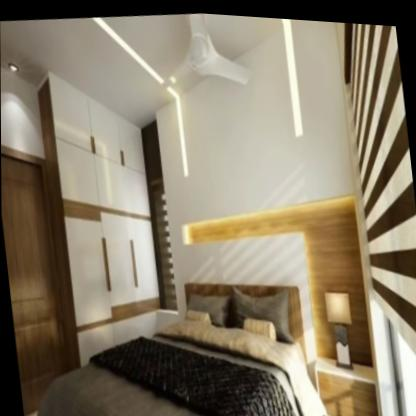Bed: (22, 247, 318, 416)
Closet: (33, 60, 165, 349)
Lamp: (318, 270, 362, 375)
